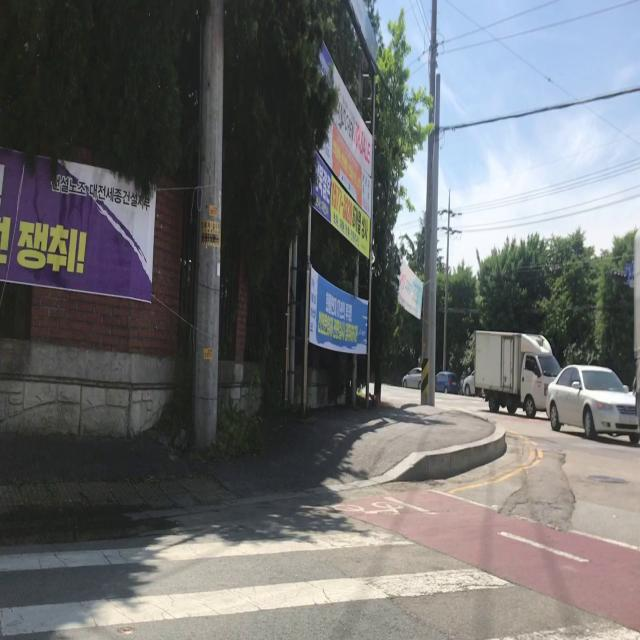횡단보도: (0, 528, 640, 640)
